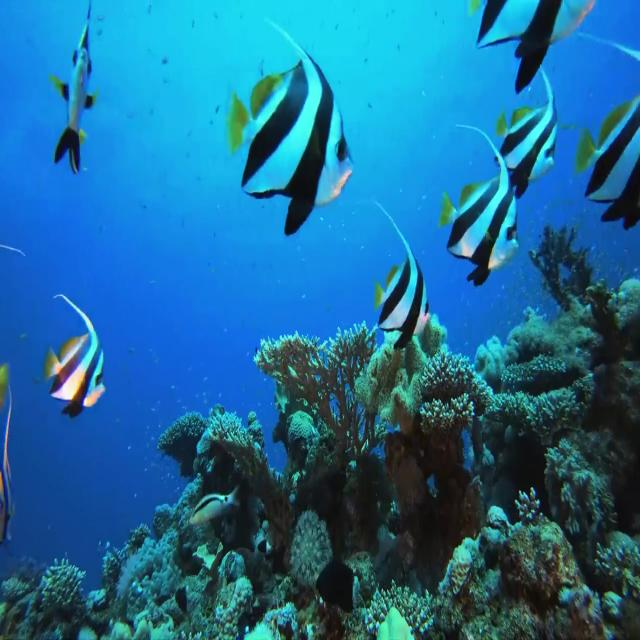fish: (219, 13, 360, 245), (430, 117, 522, 291), (34, 2, 110, 191), (454, 0, 604, 94), (362, 181, 436, 365), (26, 283, 109, 415), (576, 74, 640, 245), (495, 58, 561, 190)
